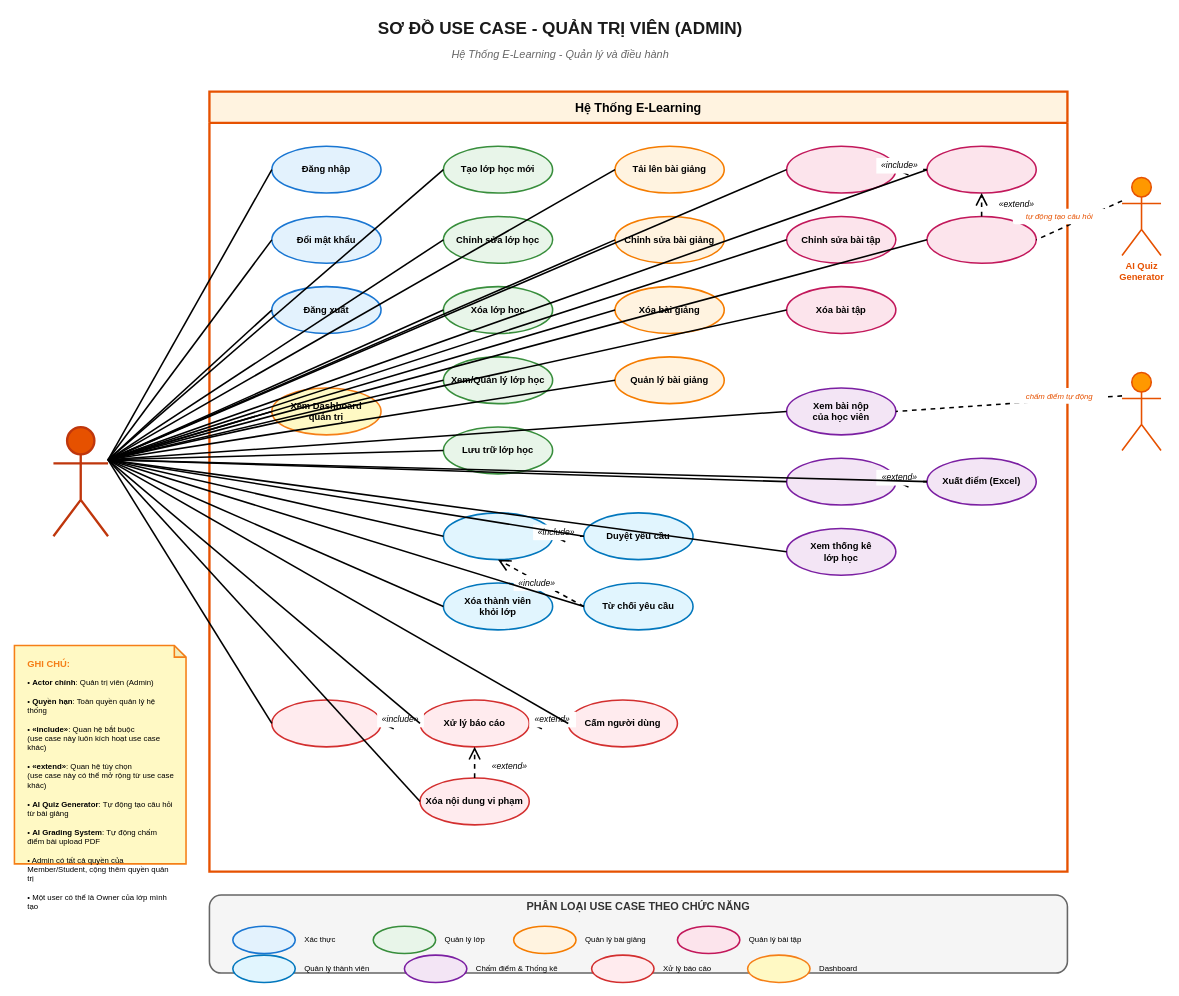
This 1179x996 diagram has some shape labels left out. Here are the shapes that lost their labels. From the top down, the centre of each, then its label:
At point (840, 169): "Tạo bài tập".
At point (981, 169): "Tạo câu hỏi quiz".
At point (981, 239): "Tạo quiz bằng AI".
At point (1141, 411): "AI Grading System".
At point (80, 481): "Quản trị viên (Admin)".
At point (840, 481): "Xem điểm số".
At point (497, 536): "Xem yêu cầu tham gia".
At point (326, 723): "Xem báo cáo vi phạm".
